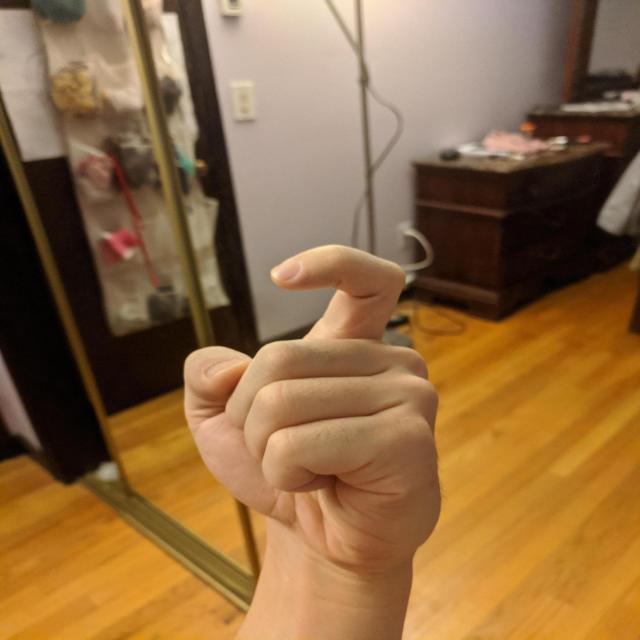X: (173, 241, 446, 557)
